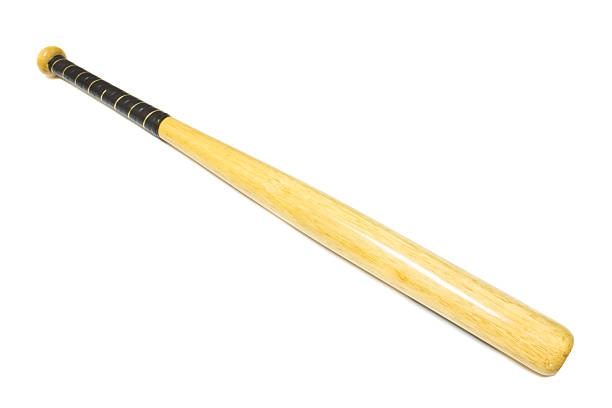bita: (40, 50, 560, 367)
